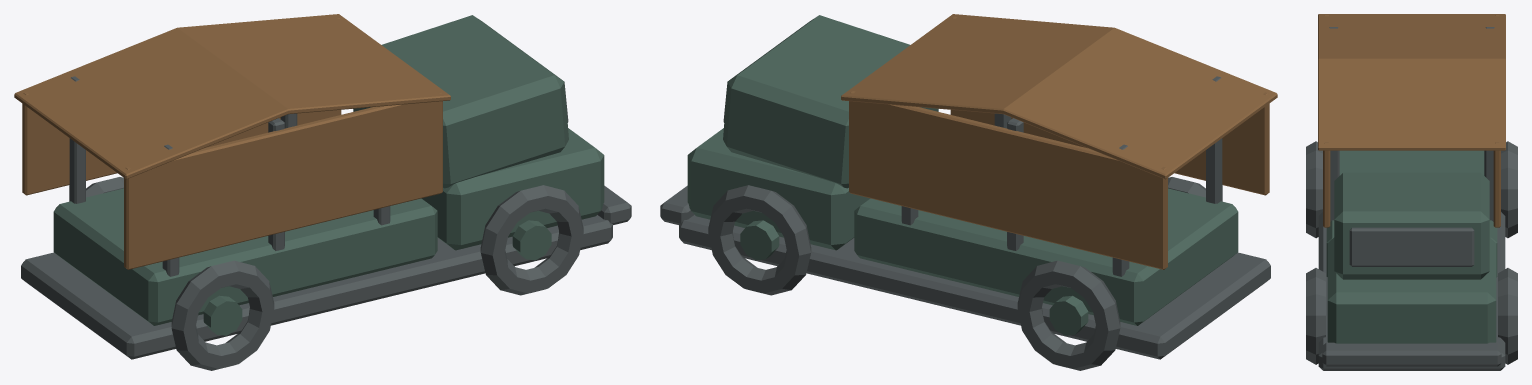
Rendered from old_klim_caravan.glb.
3 views of the same model, side by side, from view 1: azimuth 30°, elevation 25°; view 2: azimuth 150°, elevation 25°; view 3: azimuth 270°, elevation 25° (orthographic). The views are drawn at different scales.
Parts seen in each view (by area): view 1: old_klim_caravan_old_klim_oxidised_canvas_mesh, old_klim_caravan_old_klim_weathered_verdigris_mesh, old_klim_caravan_old_klim_weathered_charcoal_steel_mesh; view 2: old_klim_caravan_old_klim_oxidised_canvas_mesh, old_klim_caravan_old_klim_weathered_verdigris_mesh, old_klim_caravan_old_klim_weathered_charcoal_steel_mesh; view 3: old_klim_caravan_old_klim_oxidised_canvas_mesh, old_klim_caravan_old_klim_weathered_verdigris_mesh, old_klim_caravan_old_klim_weathered_charcoal_steel_mesh.
Boxes of the visible parts, box(x1,y1,x2,y2) form: old_klim_caravan_old_klim_oxidised_canvas_mesh: box(14, 14, 450, 269); old_klim_caravan_old_klim_weathered_verdigris_mesh: box(53, 15, 604, 335); old_klim_caravan_old_klim_weathered_charcoal_steel_mesh: box(21, 76, 631, 370); old_klim_caravan_old_klim_oxidised_canvas_mesh: box(841, 14, 1277, 269); old_klim_caravan_old_klim_weathered_verdigris_mesh: box(687, 15, 1238, 335); old_klim_caravan_old_klim_weathered_charcoal_steel_mesh: box(660, 76, 1270, 370); old_klim_caravan_old_klim_oxidised_canvas_mesh: box(1318, 14, 1505, 227); old_klim_caravan_old_klim_weathered_verdigris_mesh: box(1326, 150, 1497, 343); old_klim_caravan_old_klim_weathered_charcoal_steel_mesh: box(1306, 27, 1517, 370).
Size of the model in its own units: 5.57 by 2.52 by 2.39.
